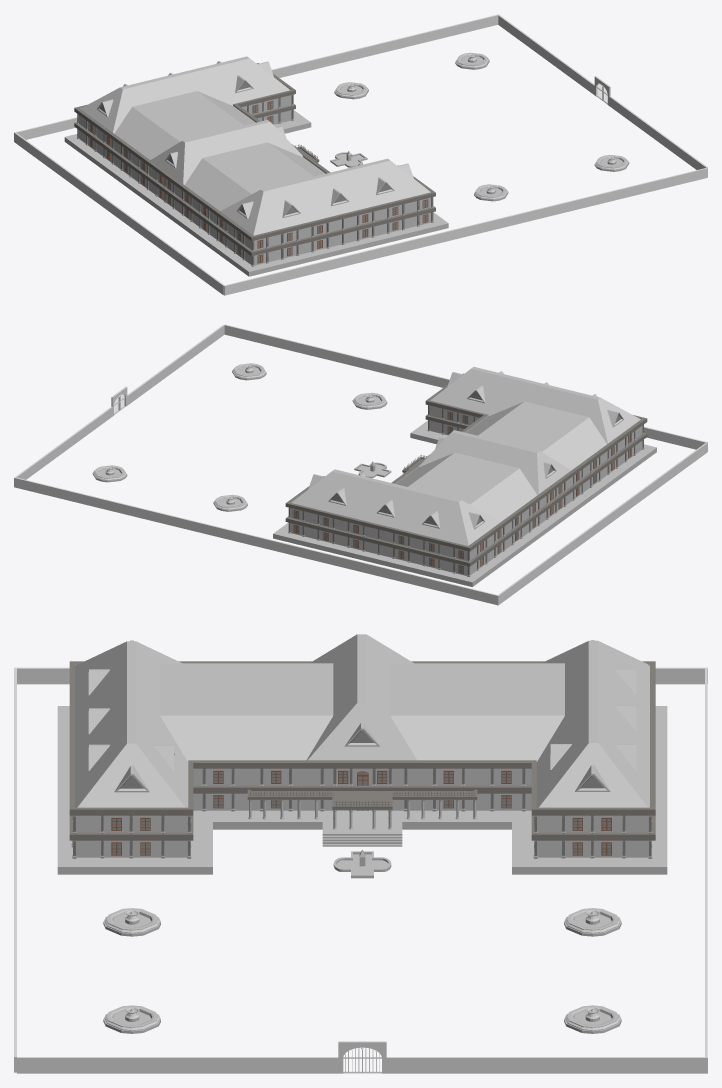
Rendered from Mansao jogo Oficial.fbx.
The picture shows the model from 3 angles, top to bottom: view 1: azimuth 30°, elevation 25°; view 2: azimuth 150°, elevation 25°; view 3: azimuth 270°, elevation 25°; orthographic projection. The views are drawn at different scales.
Visible parts, largest first — view 1: Cube.272, Cube.064, Casa.001, Cube.006, Cube.292, Casa.002, Cube.118, Cube.085, Cube.291, Cube.290, Cube.293, Cylinder.020 (+3 smaller); view 2: Cube.272, Cube.006, Casa.001, Cube.064, Cube.291, Casa.002, Cube.118, Cube.085, Cube.292, Cube.290, Cube.293, Cylinder.020 (+3 smaller); view 3: Cube.272, Cube.118, Casa.001, Cube.006, Cube.064, Cube.293, Casa.002, Cube.085, Plane, Cube.290, Cylinder.017, Cylinder.018 (+5 smaller).
Boxes of the visible parts, x1,y1,x2,y2 form: Cube.272: (114,91,325,211); Cube.064: (220,158,430,235); Casa.001: (74,63,435,250); Cube.006: (80,56,290,133); Cube.292: (223,168,707,295); Casa.002: (74,104,435,265); Cube.118: (64,110,448,276); Cube.085: (150,120,302,184); Cube.291: (14,14,498,139); Cube.290: (14,132,224,294); Cube.293: (498,14,707,176); Cylinder.020: (455,52,489,69); Cube.272: (396,401,606,521); Cube.006: (291,469,501,545); Casa.001: (285,373,647,560); Cube.064: (430,367,640,443); Cube.291: (15,477,498,604); Casa.002: (285,414,647,575); Cube.118: (273,420,656,586); Cube.085: (419,430,571,494); Cube.292: (224,324,707,451); Cube.290: (497,442,707,605); Cube.293: (14,325,224,487); Cylinder.020: (92,465,127,482); Cube.272: (160,663,564,761); Cube.118: (57,706,667,874); Casa.001: (69,661,655,832); Cube.006: (536,640,649,807); Cube.064: (75,641,188,807); Cube.293: (17,1041,707,1073); Casa.002: (69,785,655,857); Cube.085: (306,634,416,760); Plane: (247,789,477,809); Cube.290: (17,667,707,684); Cylinder.017: (103,1005,160,1033); Cylinder.018: (564,908,621,936).
Size of the model in its own units: 16050 by 1937 by 12053.
